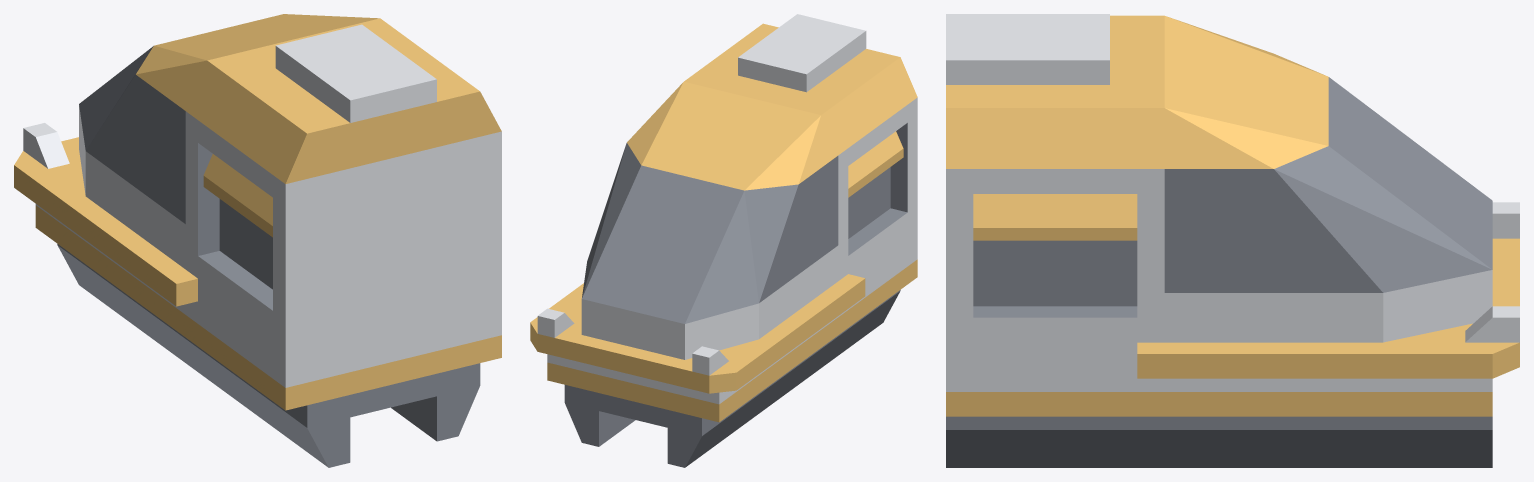
The model's file is monorail_trainFront.glb.
3 views of the same model, side by side, from view 1: azimuth 30°, elevation 25°; view 2: azimuth 150°, elevation 25°; view 3: azimuth 270°, elevation 25° (orthographic). The views are drawn at different scales.
Parts seen in each view (by area): view 1: monorail_trainFront; view 2: monorail_trainFront; view 3: monorail_trainFront.
Part boxes in pixels (x1=…): monorail_trainFront: x1=14, y1=14, x2=501, y2=467; monorail_trainFront: x1=530, y1=14, x2=917, y2=467; monorail_trainFront: x1=946, y1=14, x2=1519, y2=467.
Bounding box in the file's own units: 0.6 × 0.8 × 1.05.
